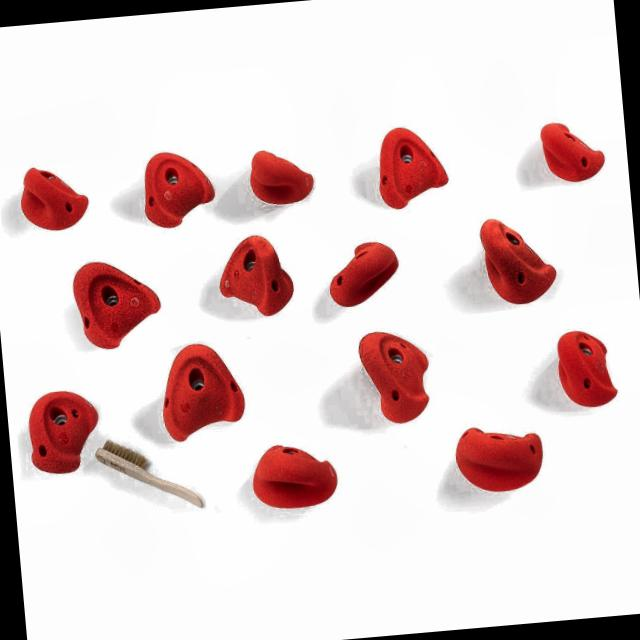Hold: (66, 251, 168, 351), (468, 208, 564, 314), (154, 342, 246, 448), (354, 326, 441, 423), (242, 438, 348, 514), (450, 416, 542, 497), (374, 121, 454, 212), (215, 233, 297, 320), (23, 384, 104, 471), (10, 160, 94, 238), (140, 146, 217, 228), (320, 240, 404, 306), (530, 117, 609, 185), (556, 332, 620, 413), (246, 142, 318, 212)
